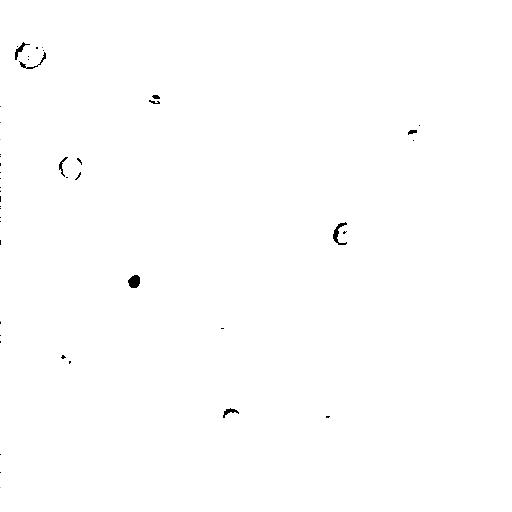micro-algae: (107, 252, 160, 305), (181, 0, 232, 34), (13, 39, 46, 70), (58, 153, 83, 183), (50, 349, 78, 375), (399, 121, 428, 146), (331, 220, 358, 245), (497, 119, 511, 161), (219, 407, 243, 427)
